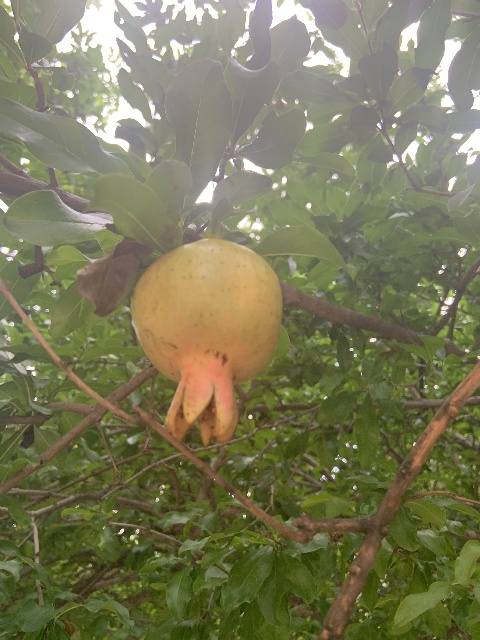mid-growth: (131, 239, 283, 450)
